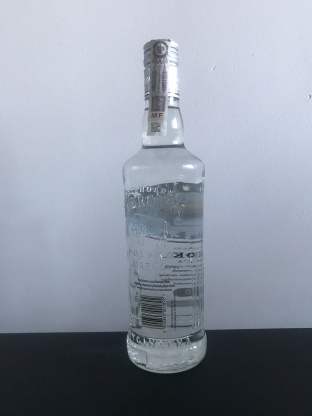nakretka: (140, 34, 182, 103), (140, 34, 181, 103)
